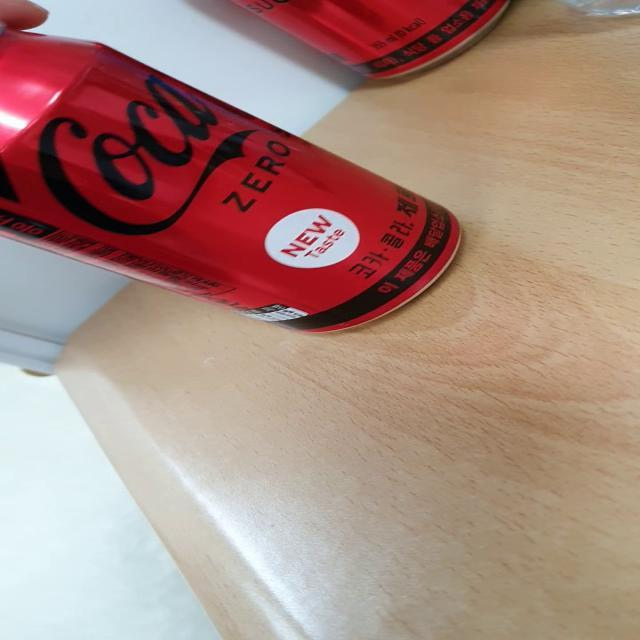coca-cola: (1, 25, 476, 353)
